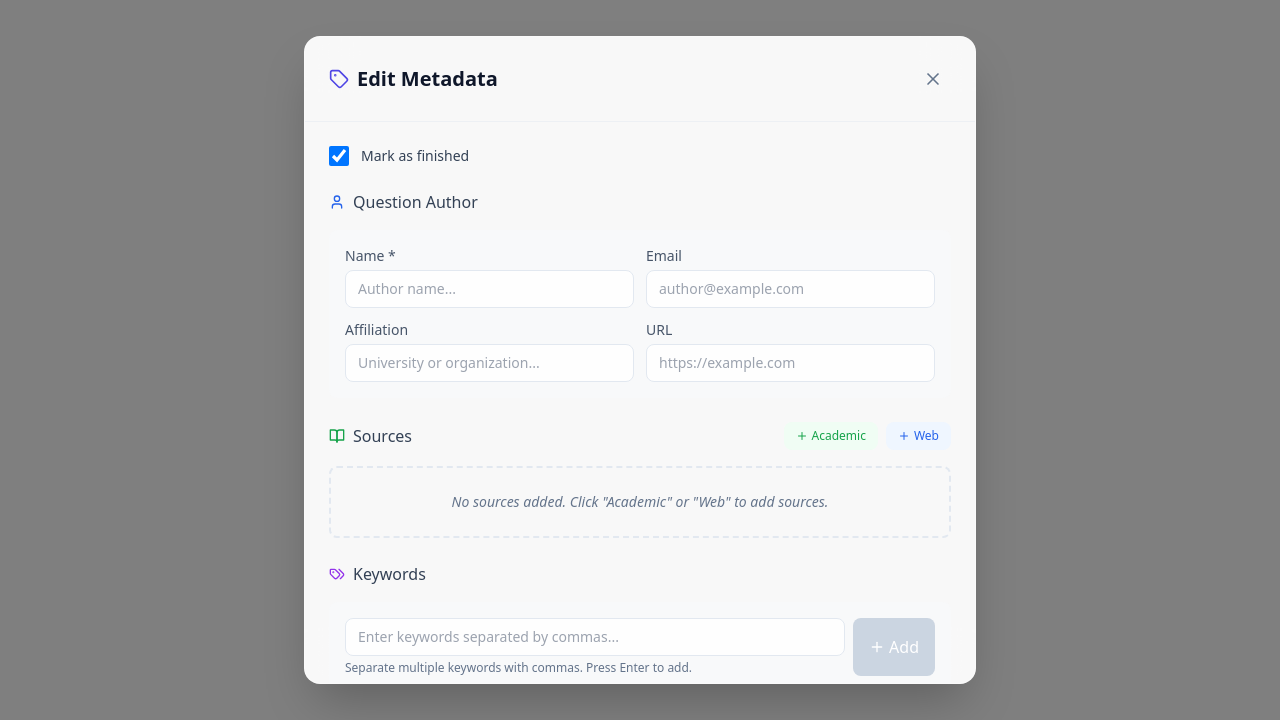
MetadataEditor - Keywords Functionality › should trim whitespace and filter empty keywords
The width and height of the screenshot is (1280, 720).
// Add keywords with extra whitespace and empty values
In the field with placeholder "Enter keywords separated by commas...": (595, 637) [345,618,845,656], type "  trimmed  , , empty-filtered,   another-trimmed   "
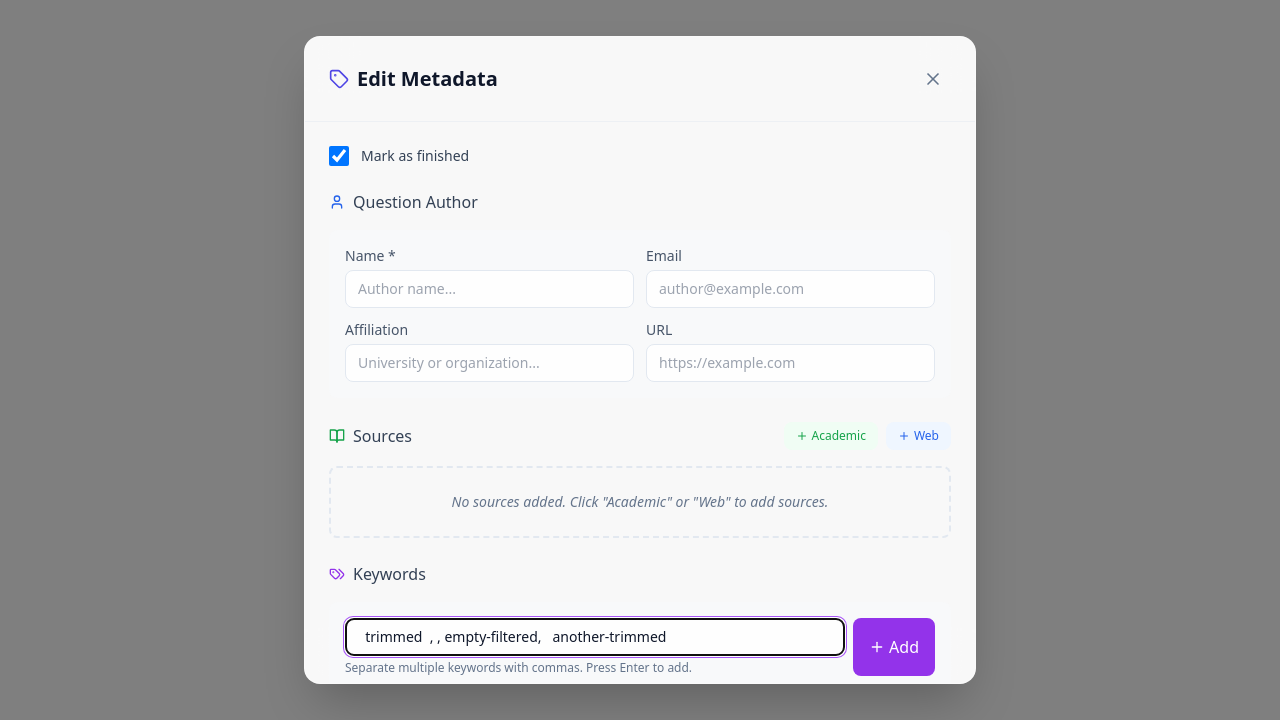
Press Enter
(page scrolled)
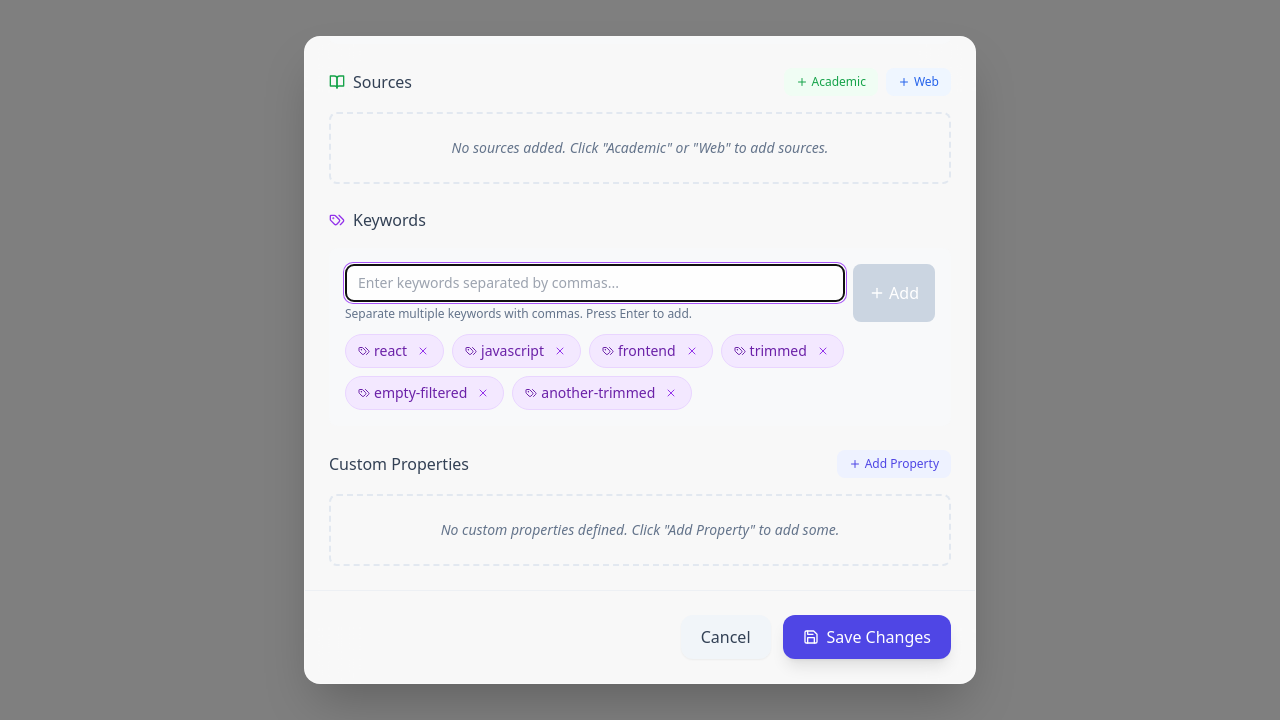
expect the text "trimmed" is shown: met, box [750,341,807,361]
expect the text "empty-filtered" is shown: met, box [374,383,467,403]
expect the text "another-trimmed" is shown: met, box [541,383,655,403]
